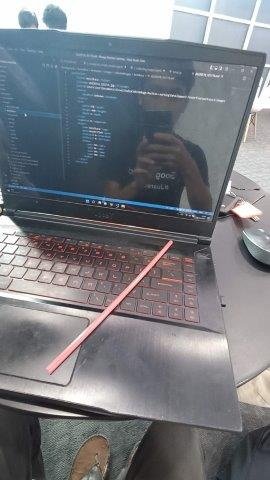sedotan: (46, 241, 172, 373)
